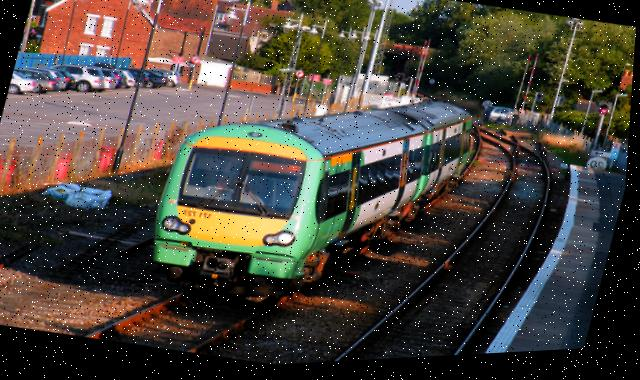car: (45, 58, 108, 100), (117, 59, 173, 99), (28, 63, 83, 100), (478, 99, 526, 138), (97, 68, 149, 103), (84, 64, 131, 101), (9, 67, 64, 96), (144, 61, 187, 96), (7, 68, 40, 103)
train: (137, 93, 501, 323)
